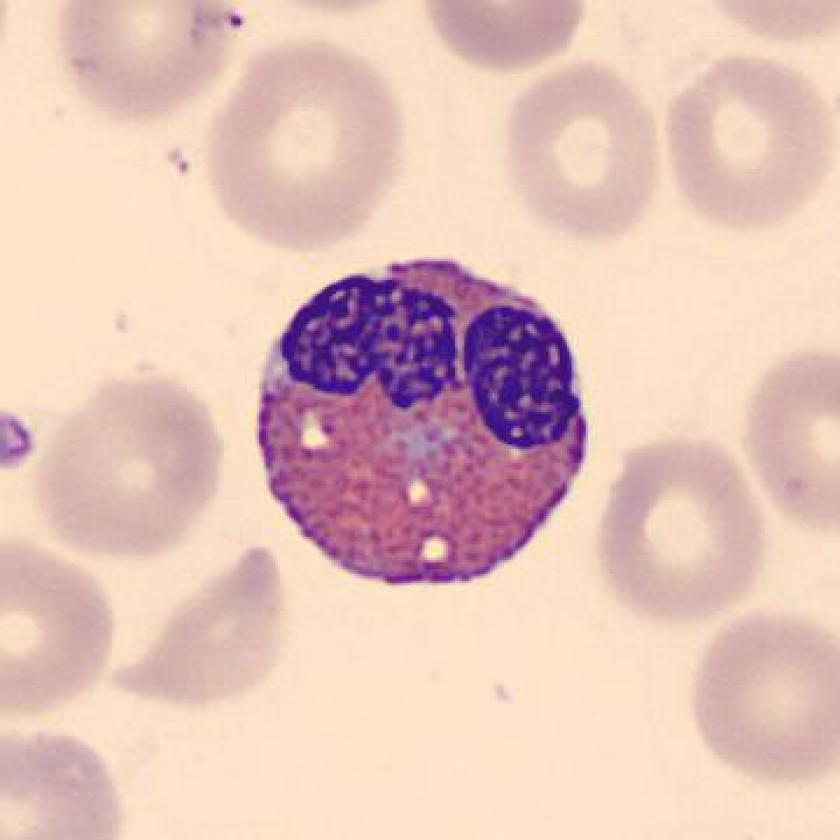eosinophil: (248, 242, 601, 603)
